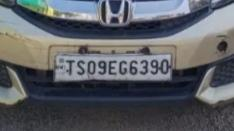0: (87, 58, 97, 78), (161, 58, 169, 77)
3: (138, 58, 149, 78)
6: (129, 59, 138, 77)
9: (97, 59, 107, 78), (149, 58, 160, 75)
E: (107, 59, 118, 77)
G: (117, 58, 128, 76)
S: (75, 58, 86, 76)
T: (64, 57, 76, 77)
